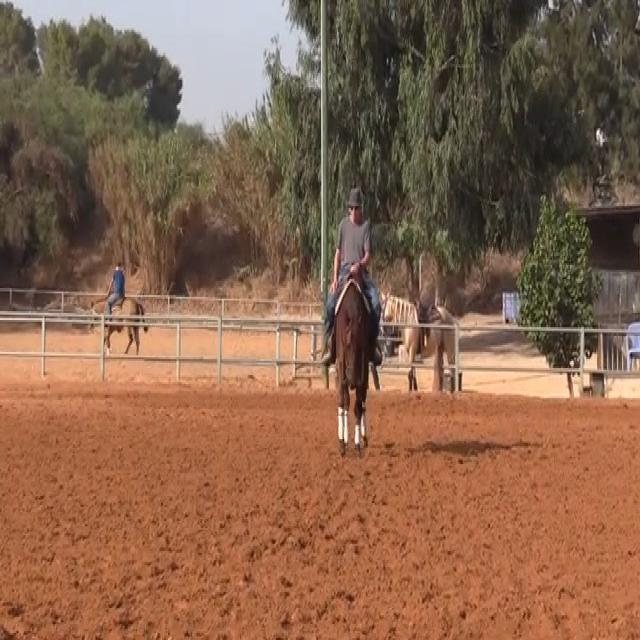horse: (330, 272, 375, 459)
